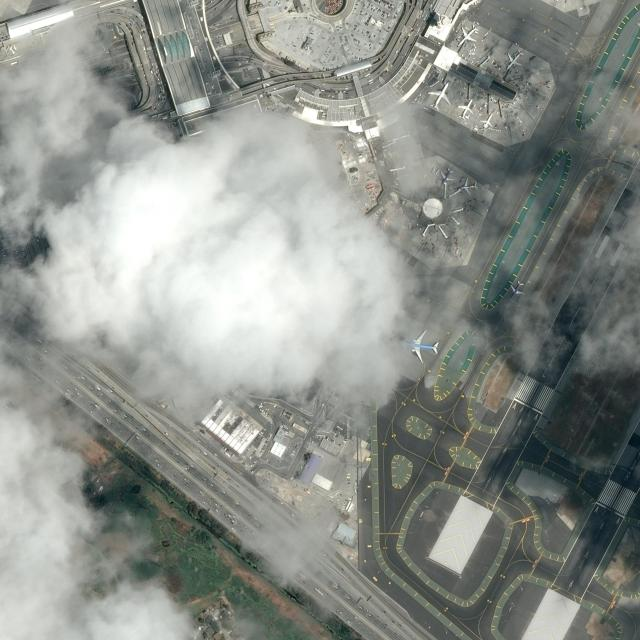aircraft: (398, 330, 440, 362), (428, 80, 452, 110), (456, 24, 480, 46), (457, 97, 477, 120), (439, 162, 457, 186), (458, 176, 481, 194), (504, 50, 524, 70), (481, 111, 495, 132), (510, 278, 524, 298)
